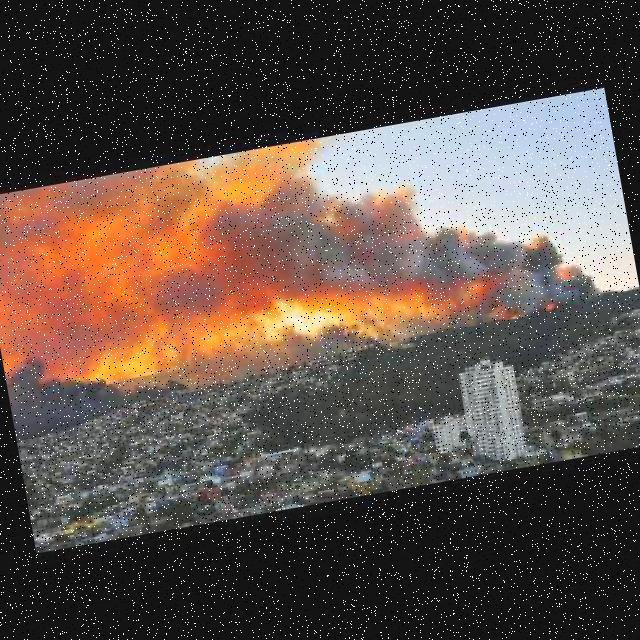Fire: (73, 313, 214, 393), (246, 291, 346, 349), (548, 299, 557, 308), (512, 311, 525, 317)
Smoke: (155, 138, 572, 327)
